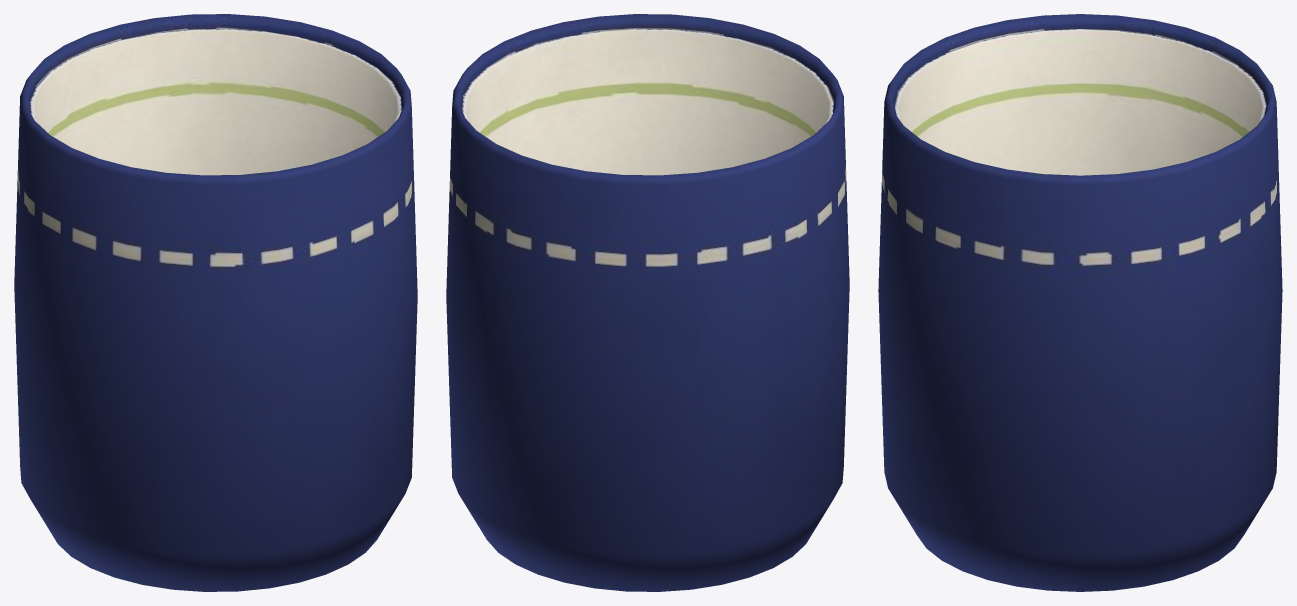
File: yunomi_navy_b2.glb
3 views of the same model, side by side, from view 1: azimuth 30°, elevation 25°; view 2: azimuth 150°, elevation 25°; view 3: azimuth 270°, elevation 25° (orthographic).
Parts seen in each view (by area): view 1: prop_yunomi_navy_b2_felt; view 2: prop_yunomi_navy_b2_felt; view 3: prop_yunomi_navy_b2_felt.
Part boxes in pixels (left/top/right/bottom): prop_yunomi_navy_b2_felt: left=14, top=14, right=417, bottom=591; prop_yunomi_navy_b2_felt: left=446, top=14, right=849, bottom=591; prop_yunomi_navy_b2_felt: left=878, top=14, right=1282, bottom=591.
Bounding box in the file's own units: 0.1112 × 0.1296 × 0.1112.
1 material, 1 textured.
